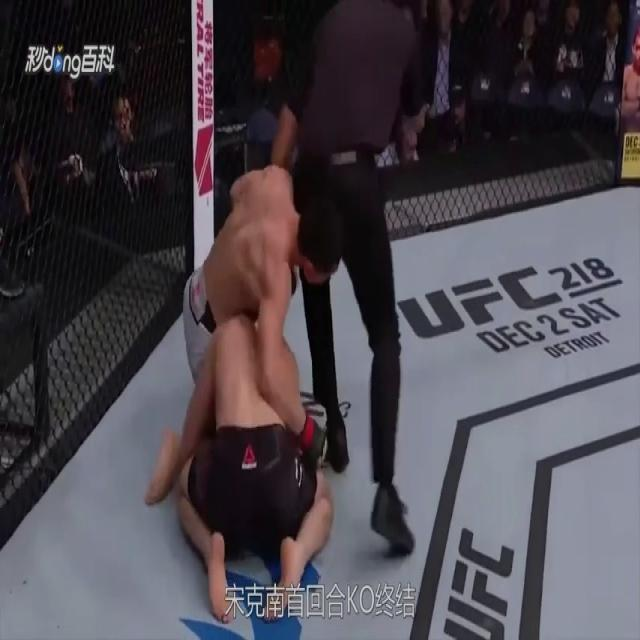fight: (143, 146, 357, 639)
non-fight: (272, 0, 448, 567)
